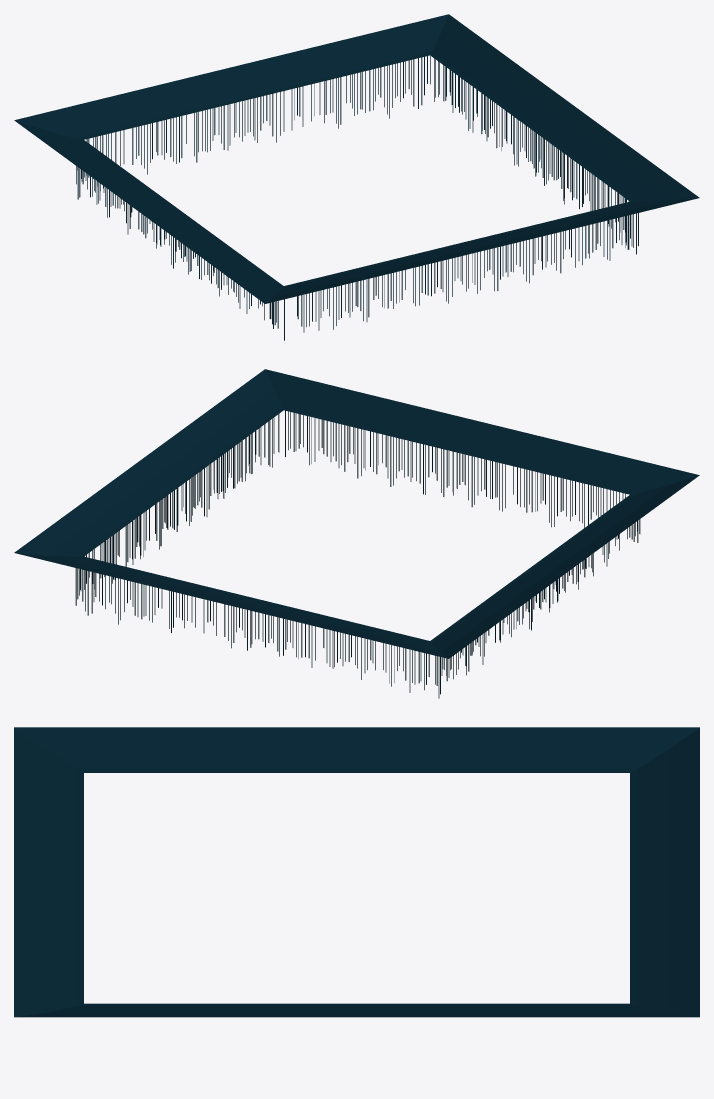
Rendered from room_edge_16.glb.
3 views of the same model, one above another, from view 1: azimuth 30°, elevation 25°; view 2: azimuth 150°, elevation 25°; view 3: azimuth 270°, elevation 25° (orthographic). The views are drawn at different scales.
Parts seen in each view (by area): view 1: edge_mist, edge_streaks_hang; view 2: edge_mist, edge_streaks_hang; view 3: edge_mist.
Part boxes in pixels (bbox=[...]): edge_mist: bbox=[14, 14, 699, 303]; edge_streaks_hang: bbox=[76, 56, 638, 340]; edge_mist: bbox=[14, 369, 699, 658]; edge_streaks_hang: bbox=[75, 410, 640, 698]; edge_mist: bbox=[14, 727, 699, 1017].
Size of the model in its own units: 19.6 by 3.01 by 19.6.
